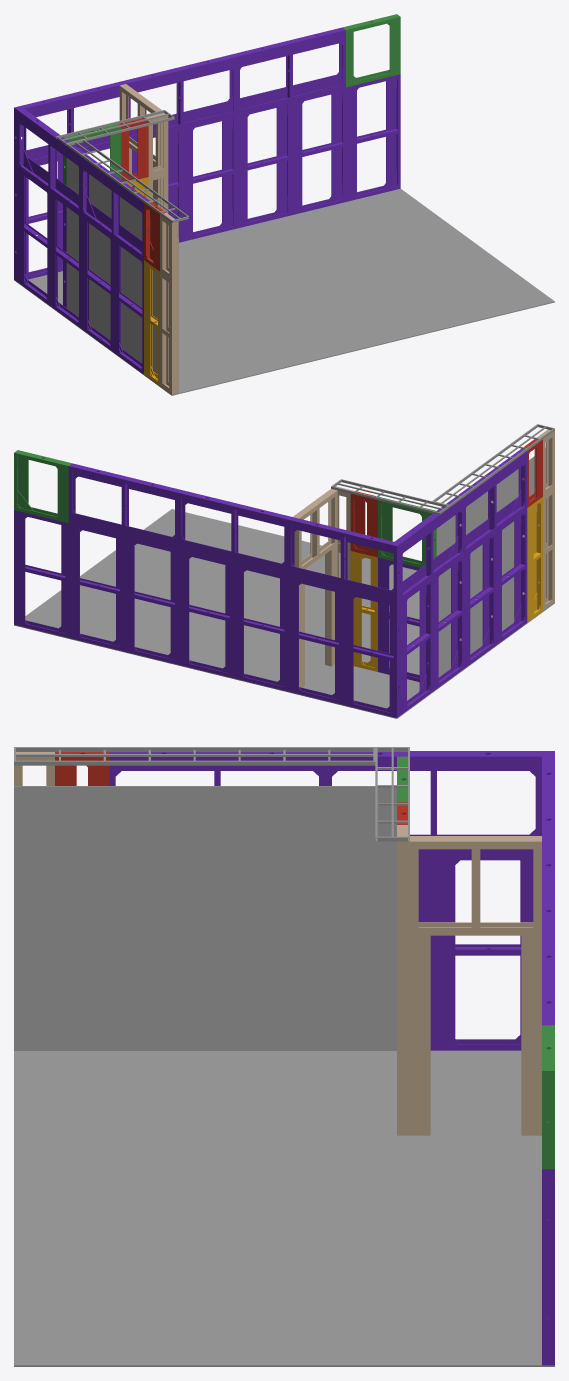
The picture shows the model from 3 angles, top to bottom: view 1: azimuth 30°, elevation 25°; view 2: azimuth 150°, elevation 25°; view 3: azimuth 270°, elevation 25°; orthographic projection. The views are drawn at different scales.
Parts seen in each view (by area): view 1: Пол 16 мм, Body18 (×13), Body17 (×9), Лист МДФ 1, Лист МДФ 2, Body23 (×2), Торец 2, Body2, Body20; view 2: Пол 16 мм, Body18 (×17), Body17 (×16), Body22 (×10), Лист МДФ 1, Body15 (×8), Лист МДФ 2, Body23 (×2), Панель 1 (×2), Body1 (×2), Труба 40x20x2 1 (×2), Труба 40x20x2 2 (×2) (+6 smaller); view 3: Пол 16 мм, Лист МДФ 2, Лист МДФ 1, Панель 2 (×2), Body17 (×2), Body18 (×3), Торец 2 (×2), Body15 (×3), Body16 (×2), Body23 (×3), Труба 40x20x2 2, Труба 40x20x2 1 (+5 smaller).
Part boxes in pixels (bbox=[...]): Пол 16 мм: bbox=[14, 188, 554, 395]; Body18 (×13): bbox=[17, 74, 396, 352]; Body17 (×9): bbox=[21, 31, 356, 250]; Лист МДФ 1: bbox=[66, 158, 116, 339]; Лист МДФ 2: bbox=[120, 197, 178, 392]; Body23 (×2): bbox=[144, 104, 291, 375]; Торец 2: bbox=[172, 279, 177, 394]; Body2: bbox=[137, 120, 148, 179]; Body20: bbox=[389, 20, 400, 73]; Пол 16 мм: bbox=[14, 509, 554, 718]; Body18 (×17): bbox=[14, 452, 525, 711]; Body17 (×16): bbox=[61, 464, 520, 705]; Body22 (×10): bbox=[65, 466, 527, 714]; Лист МДФ 1: bbox=[436, 491, 487, 677]; Body15 (×8): bbox=[69, 463, 524, 717]; Лист МДФ 2: bbox=[491, 448, 545, 630]; Body23 (×2): bbox=[350, 507, 533, 664]; Панель 1 (×2): bbox=[299, 545, 337, 687]; Body1 (×2): bbox=[367, 439, 542, 557]; Труба 40x20x2 1 (×2): bbox=[331, 428, 554, 514]; Труба 40x20x2 2 (×2): bbox=[341, 424, 537, 507]; Пол 16 мм: bbox=[14, 1050, 554, 1366]; Лист МДФ 2: bbox=[14, 786, 217, 1050]; Лист МДФ 1: bbox=[217, 786, 396, 1050]; Панель 2 (×2): bbox=[410, 935, 541, 1135]; Body17 (×2): bbox=[410, 834, 535, 1044]; Body18 (×3): bbox=[122, 751, 535, 1034]; Торец 2 (×2): bbox=[398, 841, 408, 1135]; Body15 (×3): bbox=[543, 751, 553, 1025]; Body16 (×2): bbox=[325, 751, 553, 1365]; Body23 (×3): bbox=[115, 756, 535, 1044]; Труба 40x20x2 2: bbox=[14, 760, 375, 765]; Труба 40x20x2 1: bbox=[14, 747, 375, 751].
Size of the model in its own units: 7 by 3.06 by 5.
